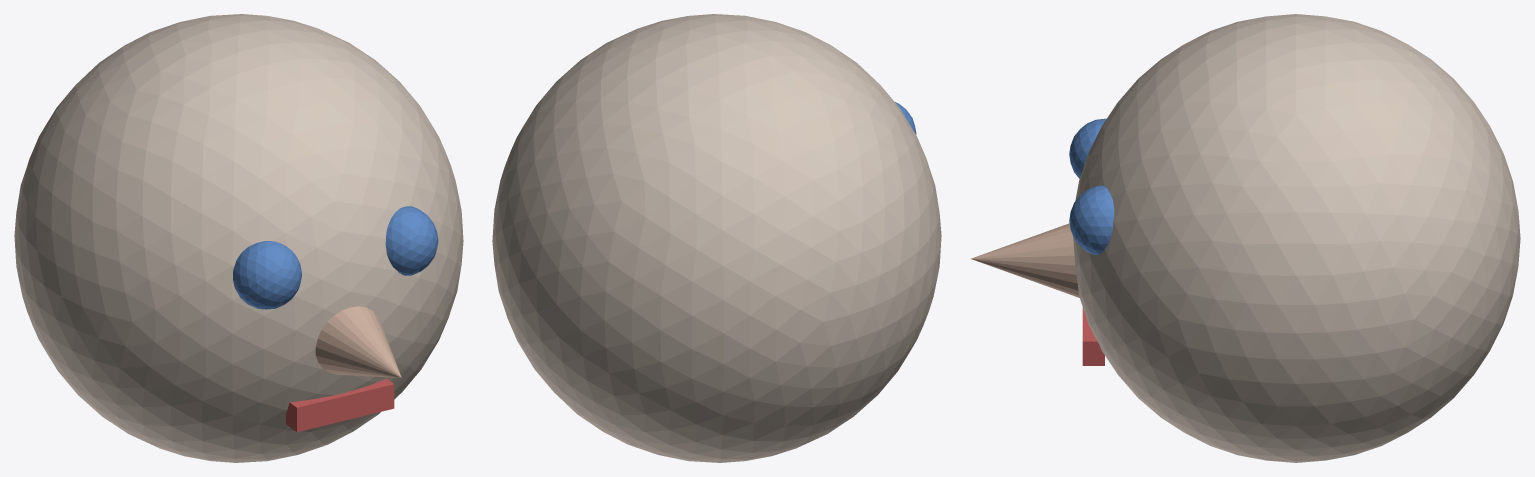
File: sample_head.glb
The picture shows the model from 3 angles, left to right: view 1: azimuth 30°, elevation 25°; view 2: azimuth 150°, elevation 25°; view 3: azimuth 270°, elevation 25°; orthographic projection.
Parts seen in each view (by area): view 1: head, nose, eye_-0.35, mouth, eye_0.35; view 2: head; view 3: head, nose, eye_0.35, eye_-0.35, mouth.
Part boxes in pixels (x1,y1,x2,y2): head: (14, 14, 463, 462); nose: (315, 306, 401, 377); eye_-0.35: (233, 241, 301, 309); mouth: (286, 378, 394, 432); eye_0.35: (385, 206, 438, 275); head: (492, 14, 941, 462); head: (1073, 14, 1520, 462); nose: (970, 223, 1079, 297); eye_0.35: (1069, 185, 1114, 254); eye_-0.35: (1069, 118, 1106, 178); mouth: (1082, 307, 1104, 365).
Size of the model in its own units: 2 by 2 by 2.45.
